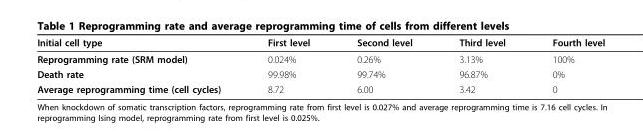table: (36, 36, 604, 94)
table column: (36, 36, 243, 94), (332, 36, 435, 94), (435, 36, 528, 94), (243, 36, 332, 94), (528, 36, 604, 94)
table column header: (36, 36, 604, 50)
table row: (36, 50, 604, 66), (36, 66, 604, 81), (36, 36, 604, 50), (36, 81, 604, 94)
